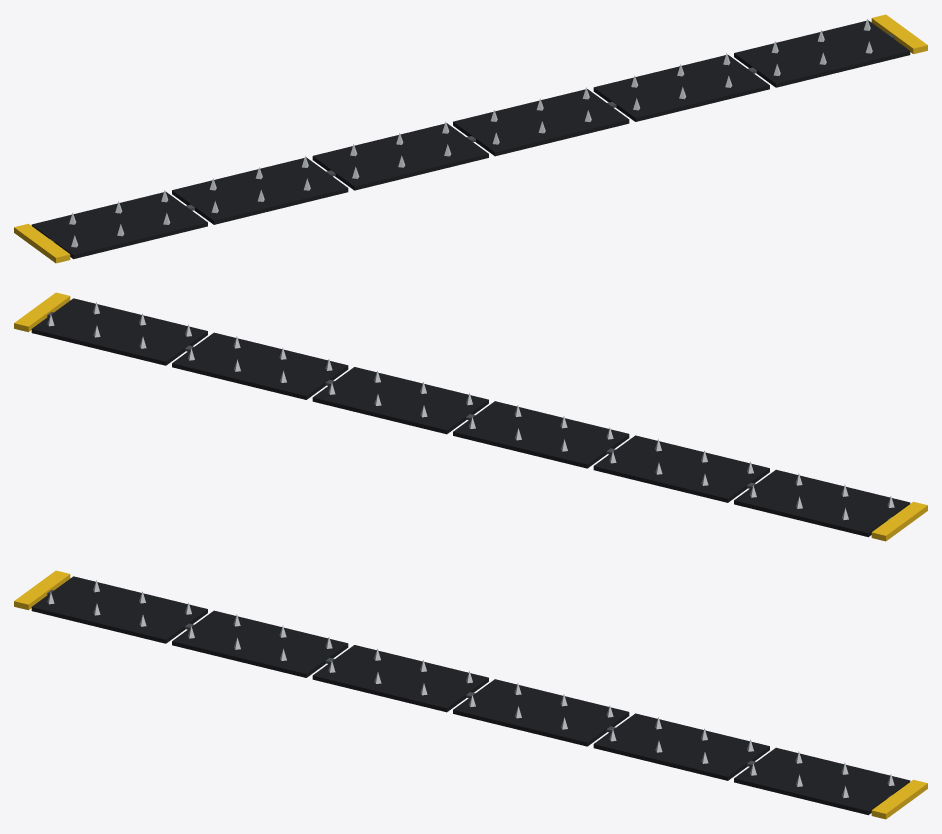
The model's file is spike_strip.glb.
The picture shows the model from 3 angles, top to bottom: view 1: azimuth 30°, elevation 25°; view 2: azimuth 150°, elevation 25°; view 3: azimuth 330°, elevation 25°; orthographic projection.
Visible parts, largest first — view 1: spike_strip__mesh; view 2: spike_strip__mesh; view 3: spike_strip__mesh.
Boxes of the visible parts, x1=… form: spike_strip__mesh: x1=14, y1=14, x2=927, y2=263; spike_strip__mesh: x1=14, y1=292, x2=927, y2=541; spike_strip__mesh: x1=14, y1=570, x2=927, y2=819.
Bounding box in the file's own units: 3.6 × 0.06 × 0.3.
1 material, 1 textured.
